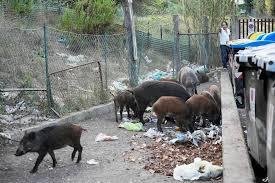person: (214, 19, 232, 68)
wildboar: (13, 121, 89, 174), (151, 94, 195, 135)
